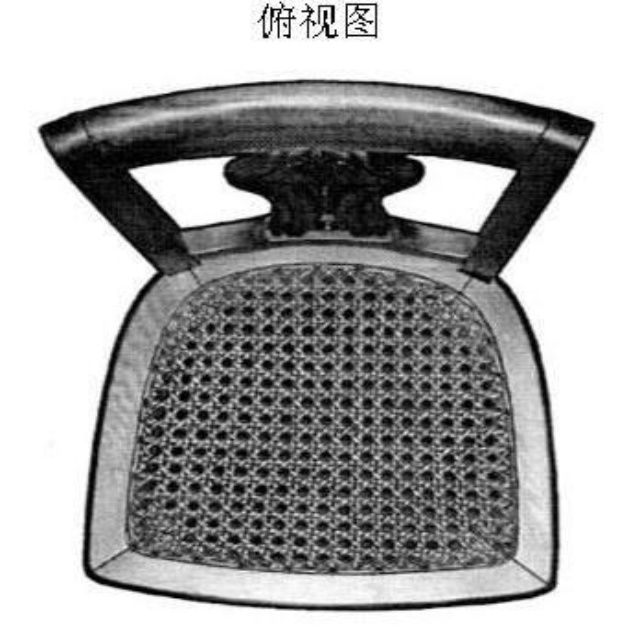obstacle: (40, 82, 590, 605)
